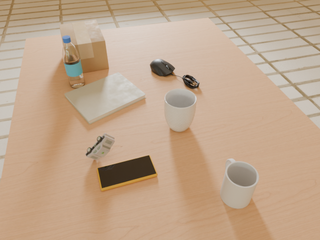book: (65, 72, 146, 124)
bottle: (62, 36, 85, 88)
box: (60, 20, 109, 73)
cup: (220, 159, 259, 209), (164, 89, 197, 132)
mouse: (150, 59, 175, 76)
phone: (97, 155, 157, 191)
toy_car: (85, 133, 115, 160)
